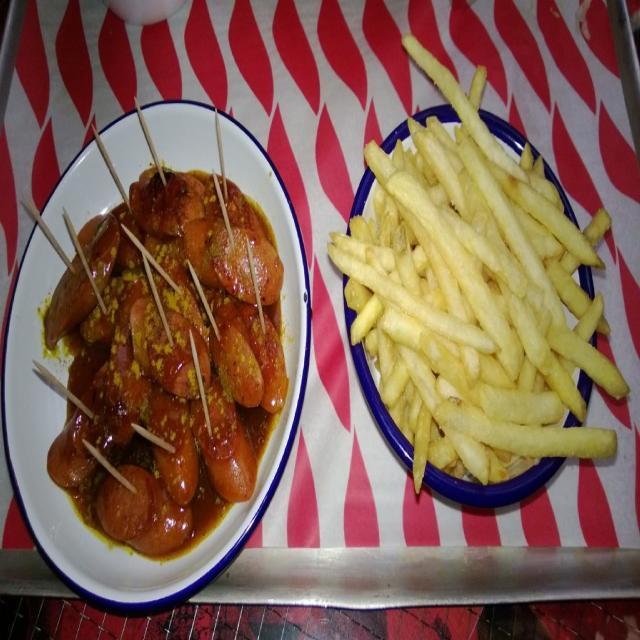French fries: (333, 98, 621, 488)
